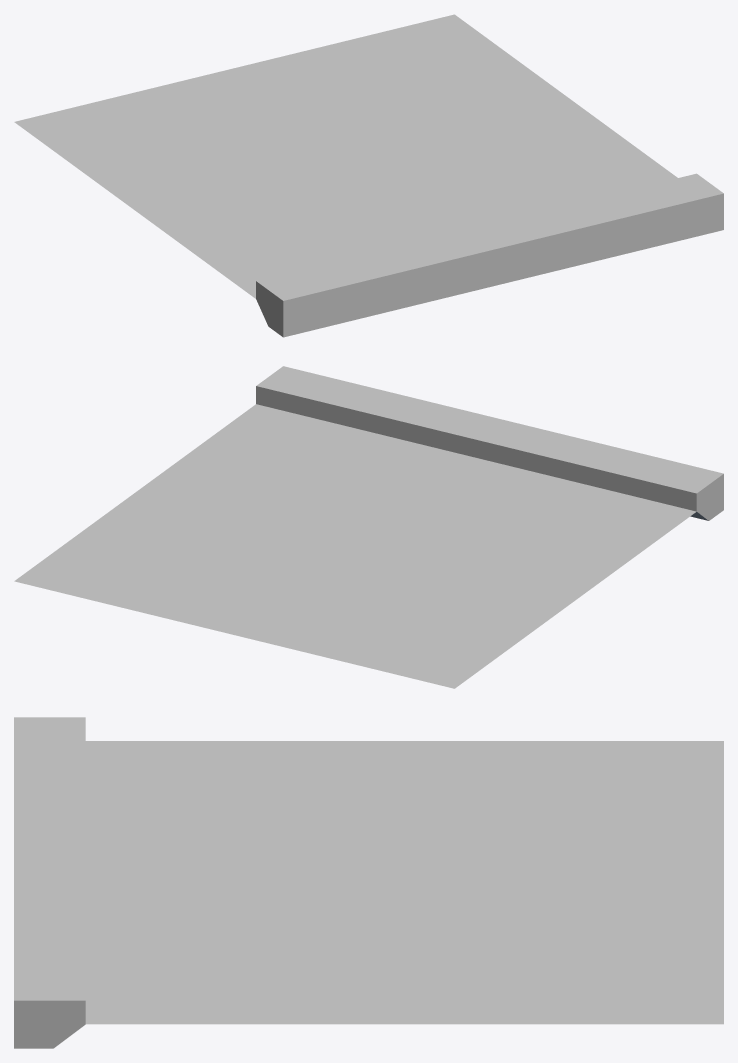
Rendered from SM_Bld_House_Roof_FlatLip_01Shape.fbx.
3 views of the same model, one above another, from view 1: azimuth 30°, elevation 25°; view 2: azimuth 150°, elevation 25°; view 3: azimuth 270°, elevation 25° (orthographic). The views are drawn at different scales.
Visible parts, largest first — view 1: SM_Bld_House_Roof_FlatLip_01; view 2: SM_Bld_House_Roof_FlatLip_01; view 3: SM_Bld_House_Roof_FlatLip_01.
Boxes of the visible parts, x1=… form: SM_Bld_House_Roof_FlatLip_01: x1=14, y1=14, x2=723, y2=337; SM_Bld_House_Roof_FlatLip_01: x1=14, y1=366, x2=723, y2=688; SM_Bld_House_Roof_FlatLip_01: x1=14, y1=717, x2=723, y2=1048.
Size of the model in its own units: 250 by 19.81 by 265.
